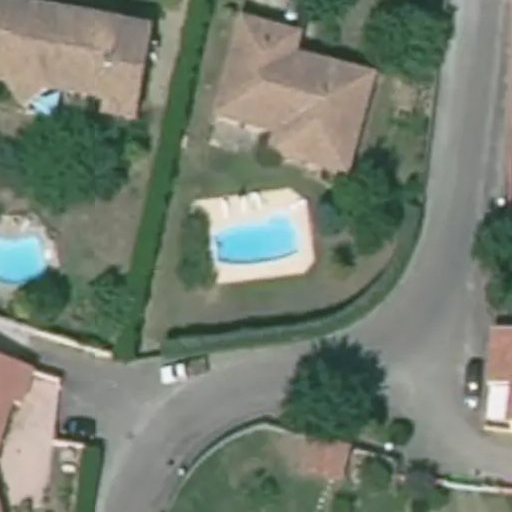pool: (212, 226, 299, 256)
